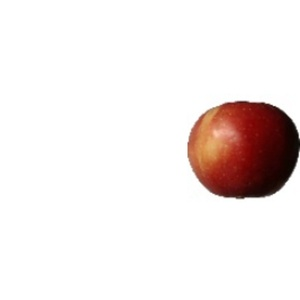maçã braeburn: (185, 100, 300, 201)
